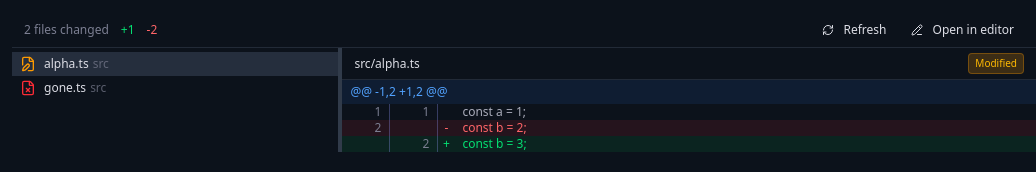
Test: ChangesPane › lists one row per changed file and shows the selected file’s hunks
Check: the element with test id "changes-diff" shows "const b = 3;", box top-left (462, 135), bottom-right (527, 152)
Check: the text with test id "changes-file-count" reads "2 files changed", box top-left (24, 22), bottom-right (109, 38)
Click the button with test id "changes-file-row".
click(65, 88)  # box top-left (12, 76), bottom-right (338, 100)
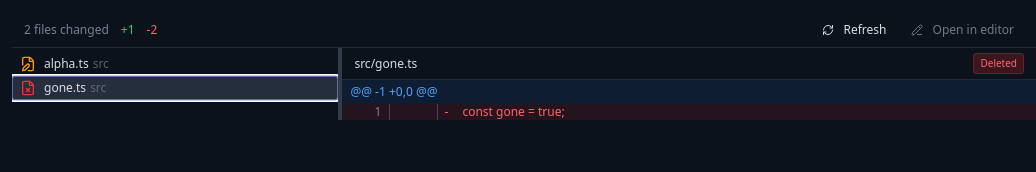
Check: the element with test id "changes-diff" shows "const gone = true;", box top-left (462, 103), bottom-right (565, 120)
